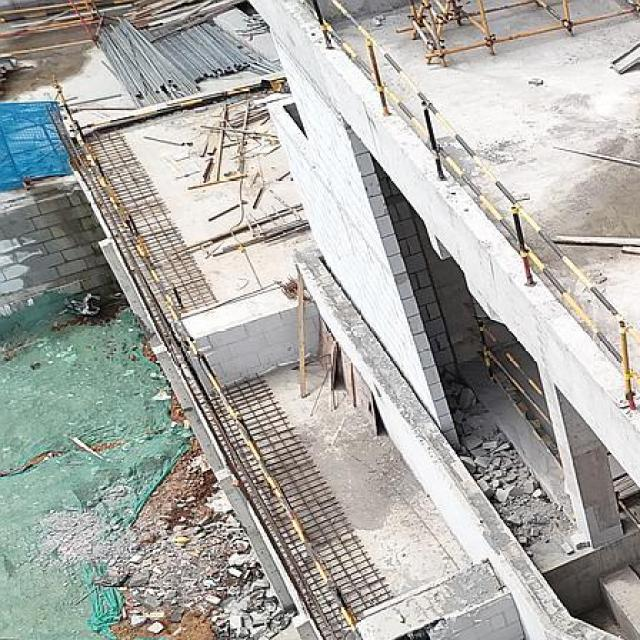edge_guardrail: (55, 81, 362, 636), (311, 0, 639, 404), (68, 75, 286, 132), (477, 317, 552, 427)
